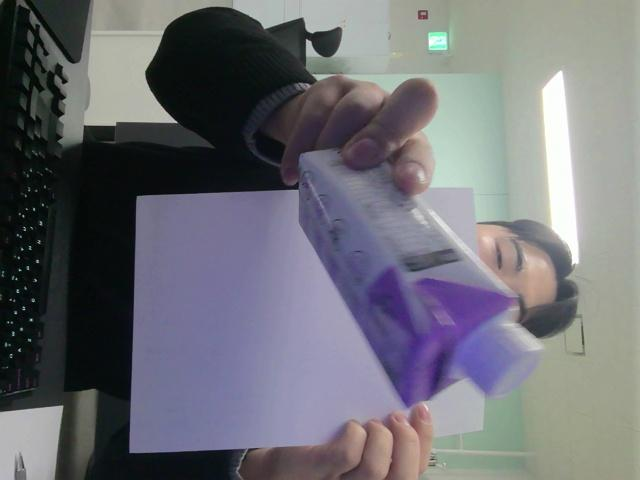milk: (300, 150, 542, 406)
